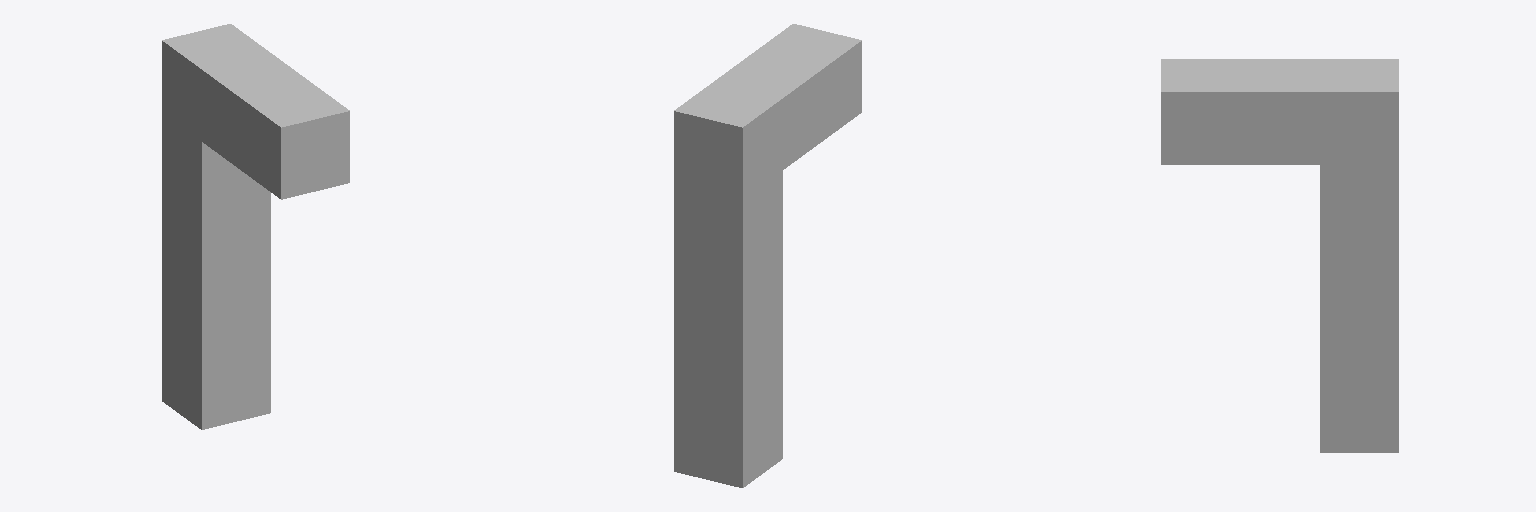
The picture shows the model from 3 angles: view 1: azimuth 30°, elevation 25°; view 2: azimuth 150°, elevation 25°; view 3: azimuth 270°, elevation 25°; orthographic projection.
Visible parts, largest first — view 1: mesh[number redacted]; view 2: mesh[number redacted]; view 3: mesh[number redacted].
Boxes of the visible parts, <box> form: mesh[number redacted]: <box>162,24,349,429</box>; mesh[number redacted]: <box>674,24,861,487</box>; mesh[number redacted]: <box>1161,59,1398,452</box>.
Size of the model in its own units: 0.02 by 0.1 by 0.06.